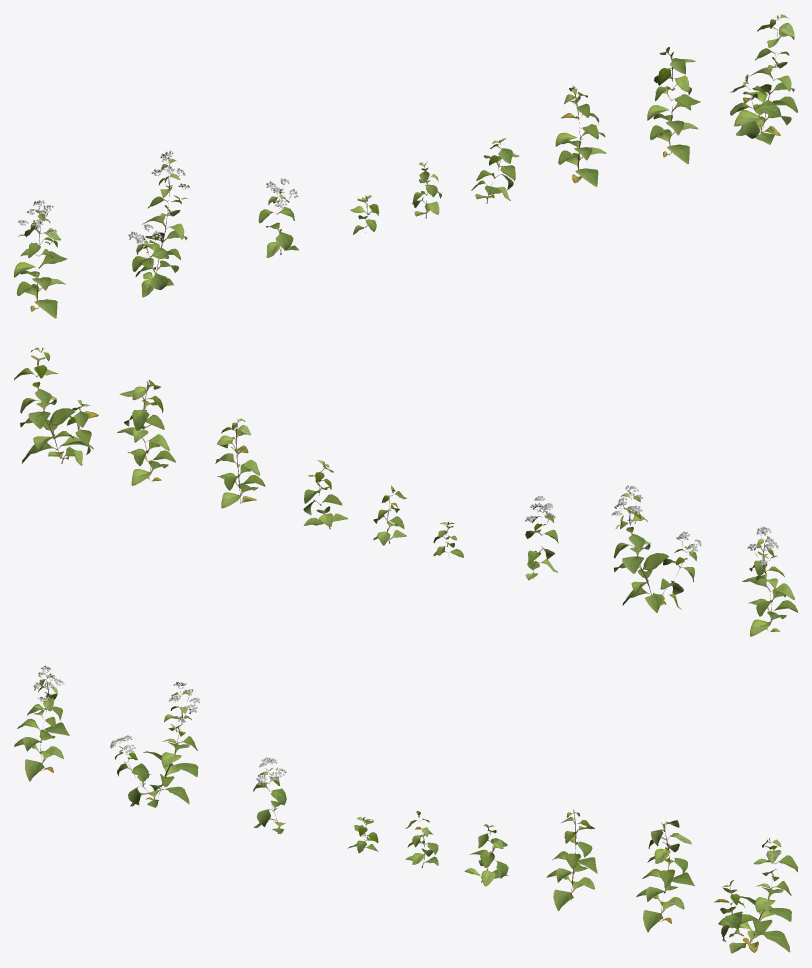
File: shrub_01.glb
3 views of the same model, one above another, from view 1: azimuth 30°, elevation 25°; view 2: azimuth 150°, elevation 25°; view 3: azimuth 330°, elevation 25° (orthographic). The views are drawn at different scales.
Visible parts, largest first — view 1: shrub_01_a; view 2: shrub_01_a; view 3: shrub_01_a.
Part boxes in pixels (x1,y1,x2,y2): shrub_01_a: (14,14,797,318); shrub_01_a: (14,347,797,636); shrub_01_a: (14,665,797,953).
Size of the model in its own units: 2.59 by 0.3965 by 0.2195.
Materials: 1 (1 with a texture image).
